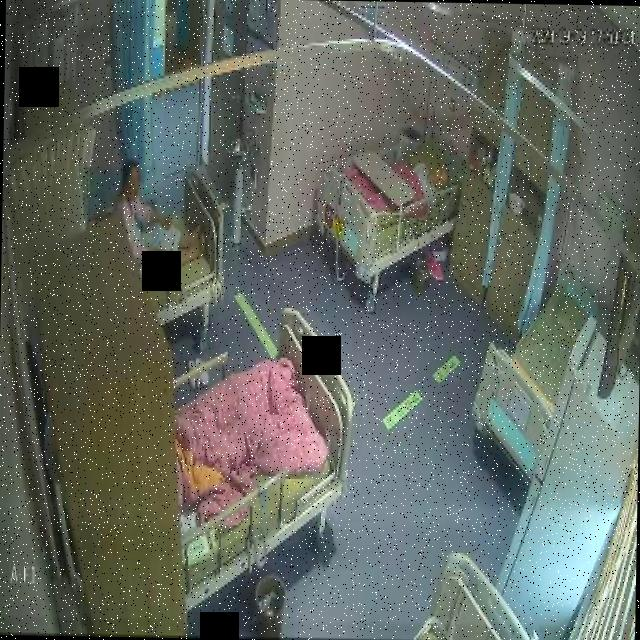bed: (170, 307, 356, 575), (304, 114, 460, 306), (469, 280, 592, 486), (125, 165, 227, 326)
patient: (109, 162, 208, 282), (404, 157, 450, 204)
sit: (108, 166, 205, 277)
